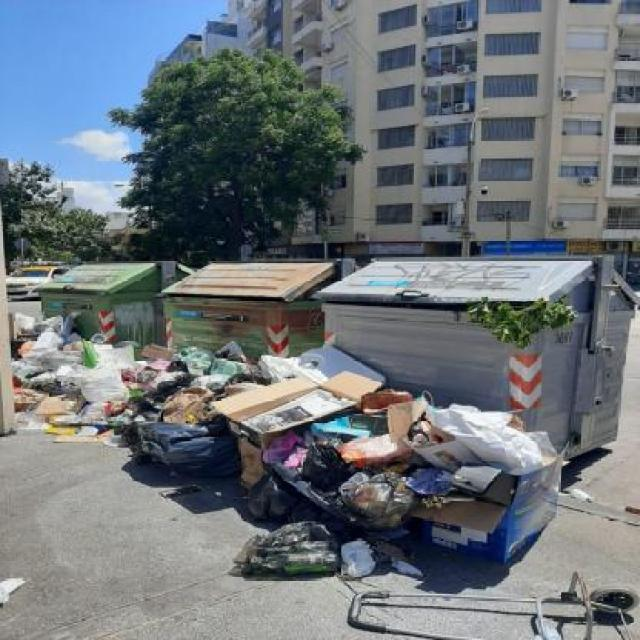garbage: (140, 342, 566, 579), (340, 578, 640, 640), (9, 306, 136, 429)
